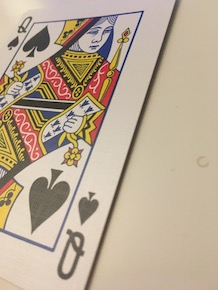QueenOfSpades: (2, 1, 180, 290)
